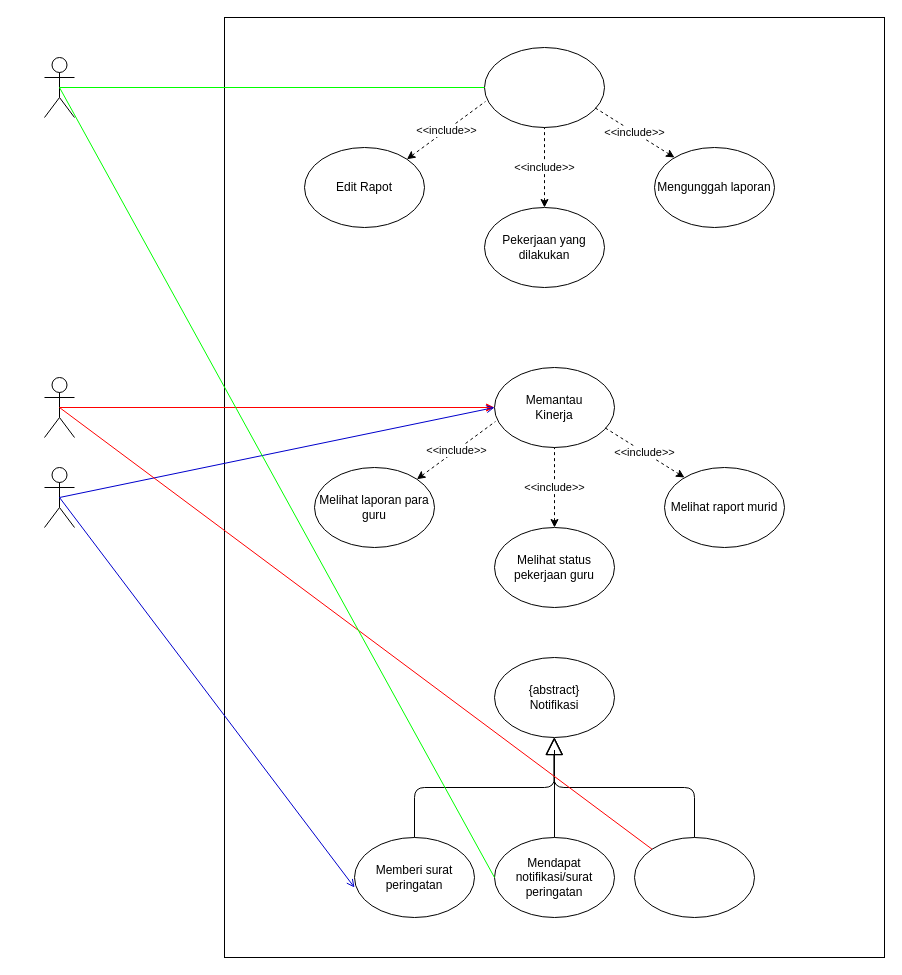
Image size: 902x975. Some labels were removed from this diagram. The centre of each missing label's shape, as x and y in pixels:
"Administrasi" goes at pixel 59 497.
"Guru" goes at pixel 59 87.
"Kepala Sekolah" goes at pixel 59 407.
"Melakukan Pendataan" goes at pixel 544 87.
"Mengirim notifikasi pekerjaan kurang lengkap" goes at pixel 694 877.
